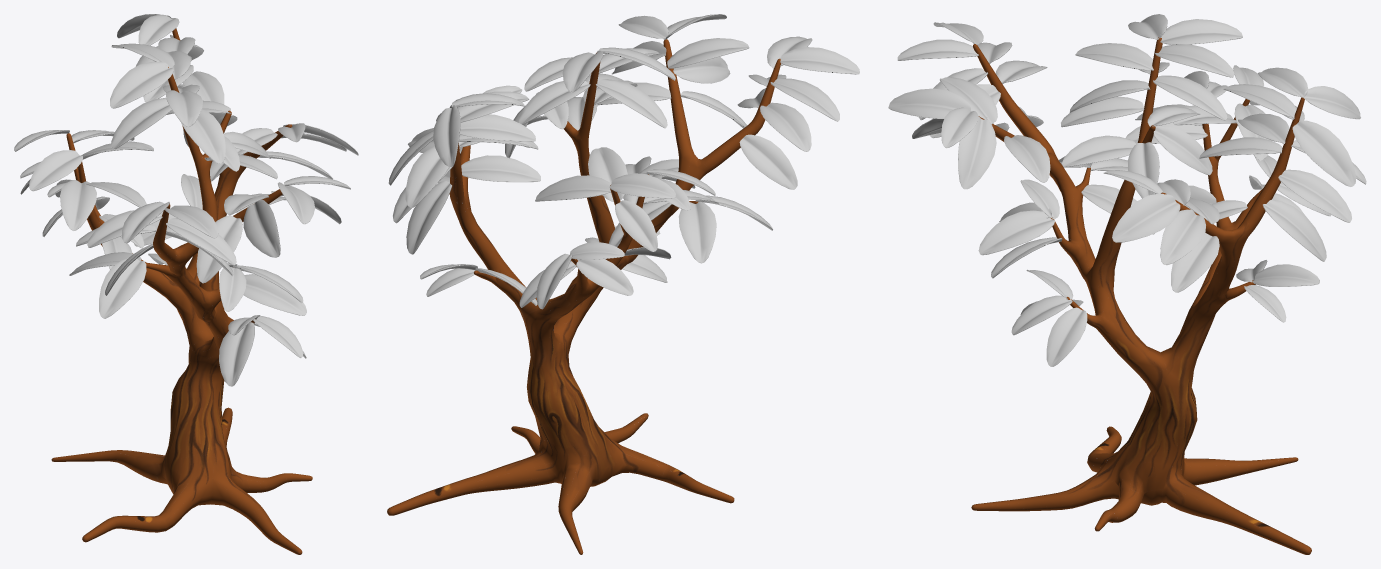
Rendered from magicTree_70L.fbx.
3 renders of one model, left to right at view 1: azimuth 30°, elevation 25°; view 2: azimuth 150°, elevation 25°; view 3: azimuth 270°, elevation 25°, orthographic. The views are drawn at different scales.
Visible parts, largest first — view 1: magicTree_mediumIslands, Leaff.022, Leaff.052, Leaff.063, Leaff.036, Leaff.019, Leaff.041, Leaff.039, Leaff.005, Leaff.057, Leaff.064, Leaff.020 (+24 smaller); view 2: magicTree_mediumIslands, Leaff.070, Leaff.026, Leaff.028, Leaff.033, Leaff.001, Leaff.049, Leaff.060, Leaff.025, Leaff.013, Leaff.058, Leaff.019 (+21 smaller); view 3: magicTree_mediumIslands, Leaff.014, Leaff.065, Leaff.006, Leaff.021, Leaff.024, Leaff.012, Leaff.068, Leaff.033, Leaff.031, Leaff.048, Leaff.016 (+26 smaller).
Boxes of the visible parts, <box> form: magicTree_mediumIslands: <box>51,28,312,554</box>; Leaff.022: <box>110,61,173,108</box>; Leaff.052: <box>99,258,146,318</box>; Leaff.063: <box>243,199,280,257</box>; Leaff.036: <box>219,322,254,386</box>; Leaff.019: <box>111,97,171,149</box>; Leaff.041: <box>60,179,96,230</box>; Leaff.039: <box>243,274,306,315</box>; Leaff.005: <box>181,109,225,163</box>; Leaff.057: <box>29,150,82,191</box>; Leaff.064: <box>196,215,242,283</box>; Leaff.020: <box>166,218,236,265</box>; magicTree_mediumIslands: <box>387,39,780,554</box>; Leaff.070: <box>739,134,797,189</box>; Leaff.026: <box>678,201,716,263</box>; Leaff.028: <box>461,155,540,182</box>; Leaff.033: <box>406,180,452,254</box>; Leaff.001: <box>780,47,859,74</box>; Leaff.049: <box>460,114,535,141</box>; Leaff.060: <box>405,146,448,207</box>; Leaff.025: <box>760,102,811,151</box>; Leaff.013: <box>667,38,749,68</box>; Leaff.058: <box>535,175,611,201</box>; Leaff.019: <box>596,79,667,128</box>; magicTree_mediumIslands: <box>971,37,1311,554</box>; Leaff.014: <box>1292,120,1356,186</box>; Leaff.065: <box>1112,193,1180,242</box>; Leaff.006: <box>978,210,1054,255</box>; Leaff.021: <box>958,116,996,189</box>; Leaff.024: <box>1278,169,1351,222</box>; Leaff.012: <box>888,88,970,118</box>; Leaff.068: <box>1160,209,1205,265</box>; Leaff.033: <box>1263,199,1326,261</box>; Leaff.031: <box>1160,19,1242,44</box>; Leaff.048: <box>1171,233,1219,292</box>; Leaff.016: <box>1046,307,1087,366</box>.
Bounding box in the file's own units: 176 × 150 × 188.
